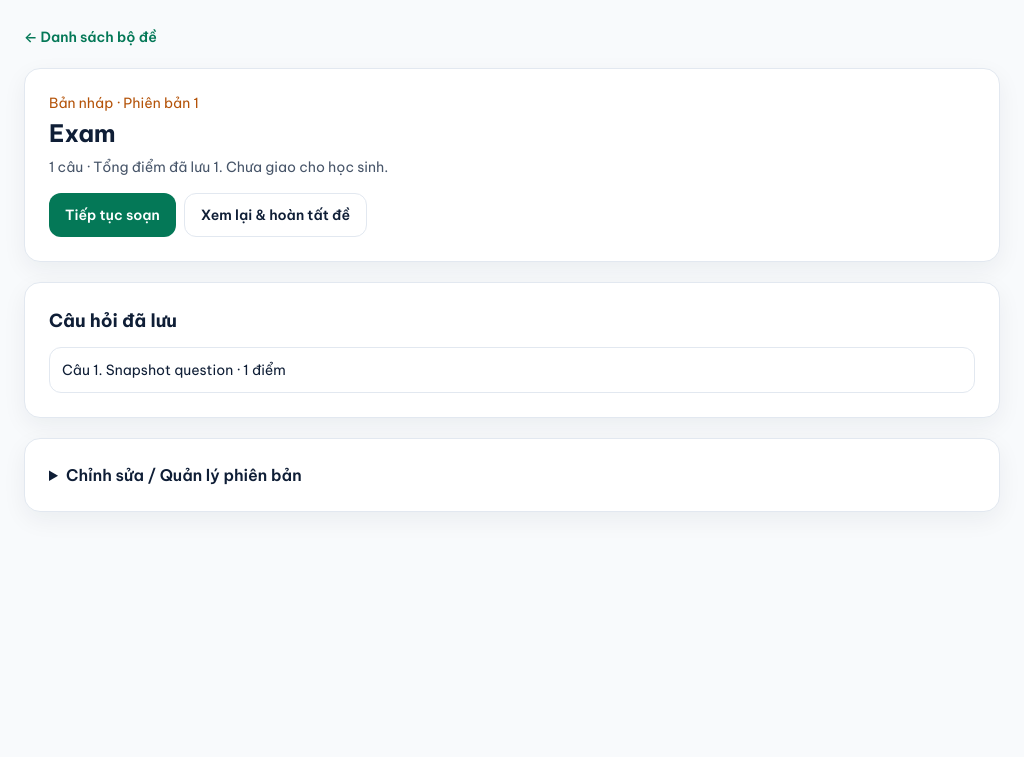
Test: assessment draft UI › opens a saved draft as an overview and enters the wizard only for editing
Step 1. Click the button "Tiếp tục soạn" → (112, 215), box left=49, top=193, right=176, bottom=237
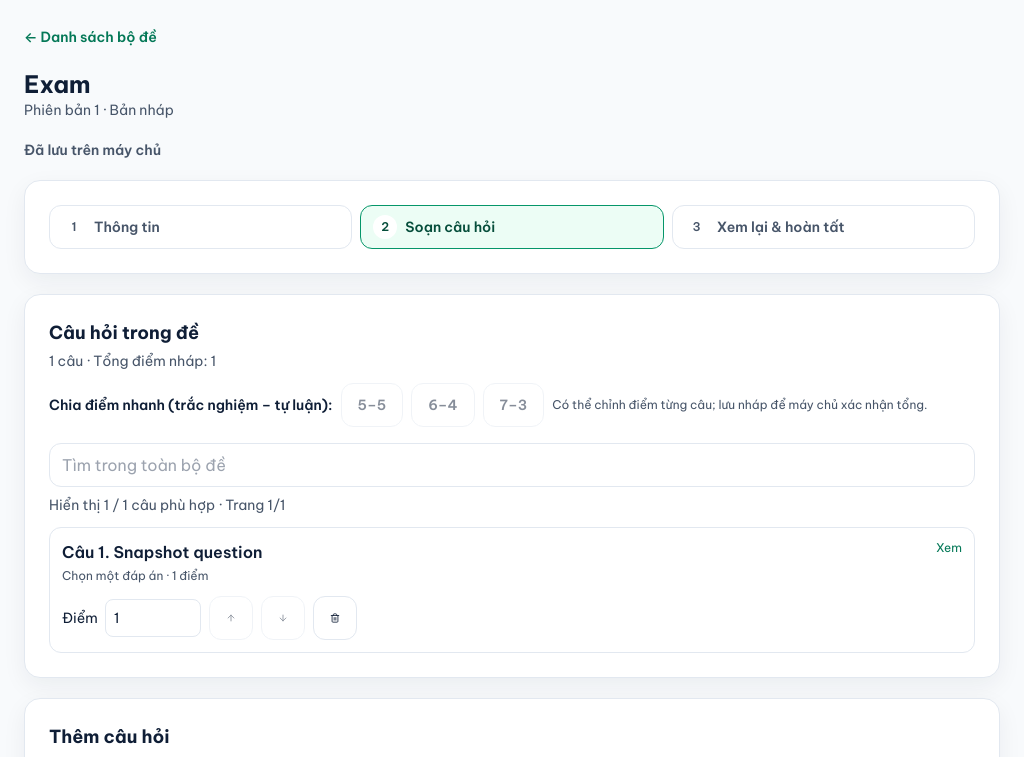
Expected: the navigation bar named "Các bước soạn đề" is shown, left=24, top=180, right=1000, bottom=274
